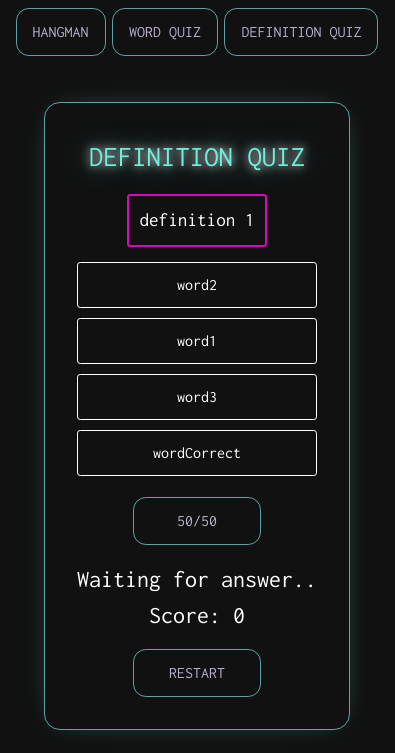
Test: QuizDefinition › should not have div with test-id wrong, correct, loader after good answer and clicked next question button
The width and height of the screenshot is (395, 753).
Click the text "wordCorrect" at (197, 452), box [153,444,241,461]
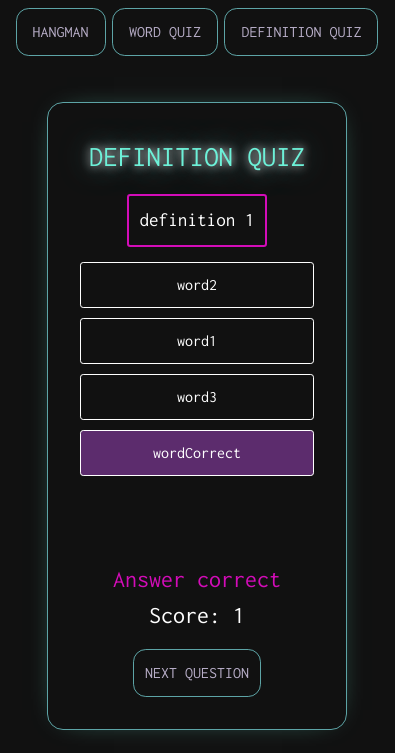
Click the text "Next Question" at (197, 673), box [133,649,261,697]
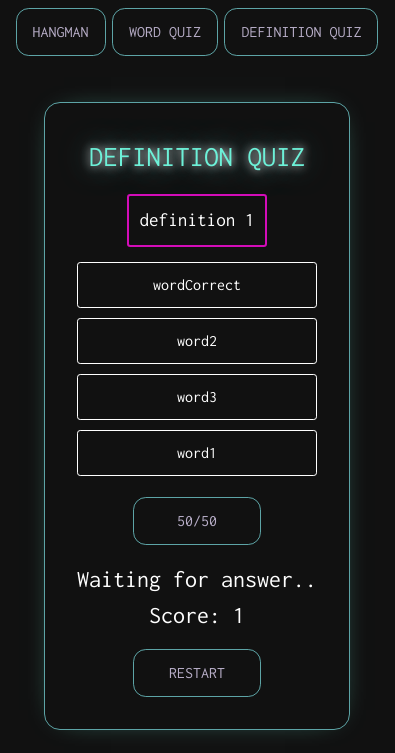
Check: the text with test id "correct" is gone
